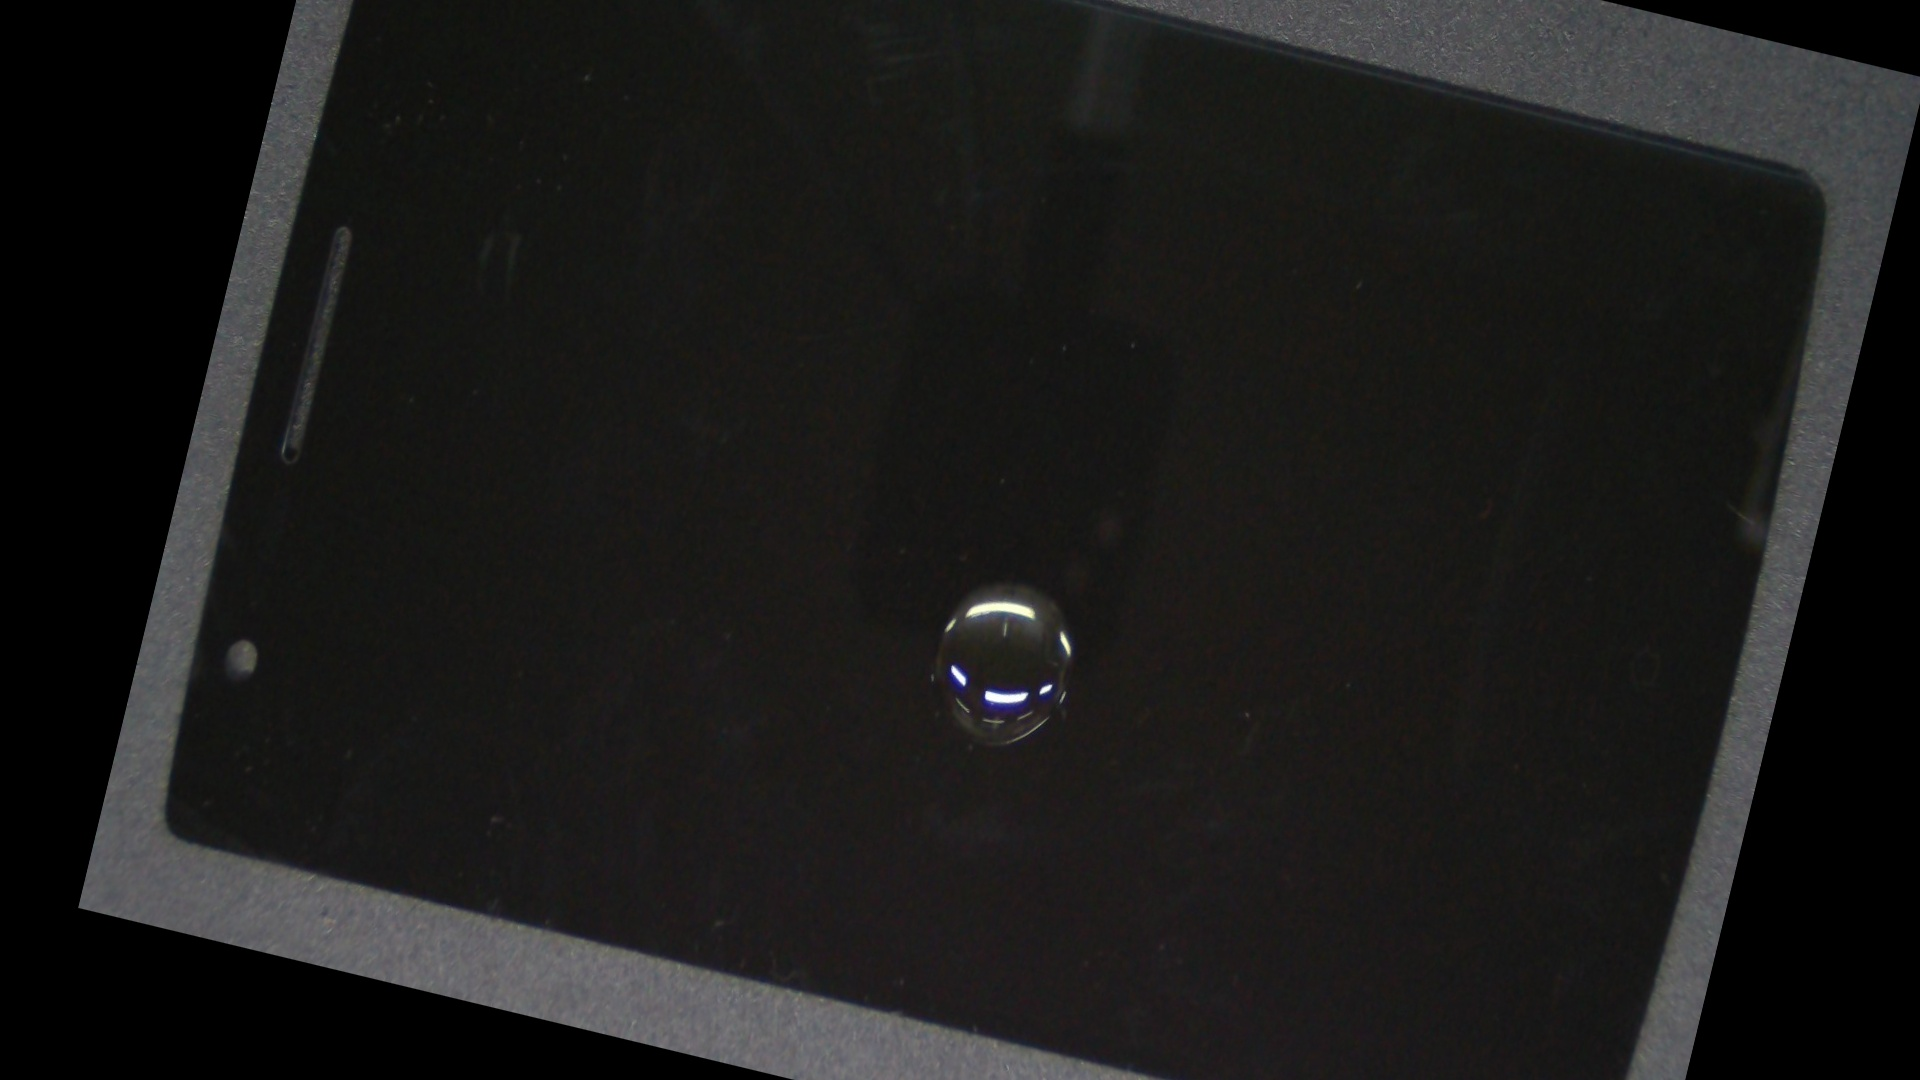oil: (534, 144, 1520, 1025)
